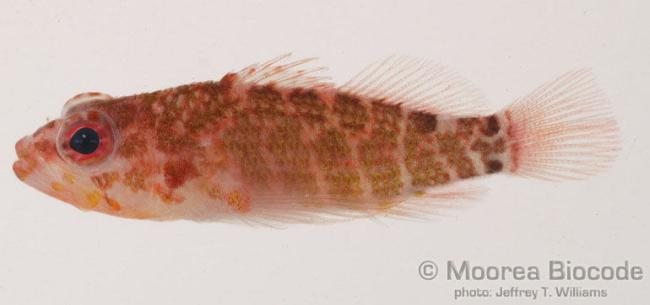fish: (12, 50, 622, 231)
